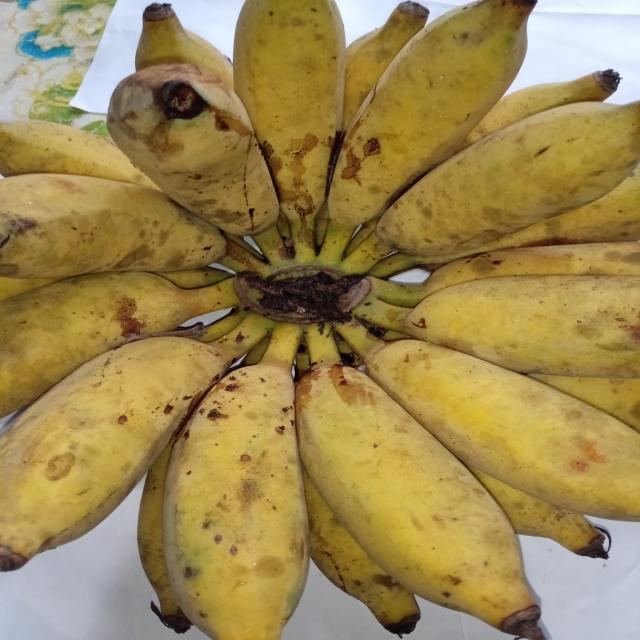banana: (296, 328, 543, 639), (336, 324, 639, 520), (0, 338, 244, 571), (328, 0, 535, 230), (165, 325, 308, 639), (375, 102, 639, 256), (0, 272, 237, 415), (107, 64, 278, 235), (234, 0, 345, 258), (405, 275, 640, 378), (0, 174, 225, 278), (303, 472, 420, 635), (473, 169, 639, 252), (470, 468, 607, 558), (463, 70, 620, 146), (421, 242, 639, 296), (342, 2, 429, 130), (0, 120, 155, 188), (138, 438, 191, 633), (135, 3, 233, 89), (532, 374, 639, 431), (157, 267, 234, 289), (158, 267, 233, 288), (0, 278, 57, 301), (242, 335, 270, 366), (294, 342, 310, 381)
